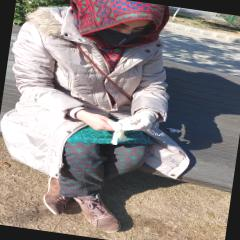gloved: (123, 108, 157, 133)
not-gloved: (77, 110, 123, 132)
